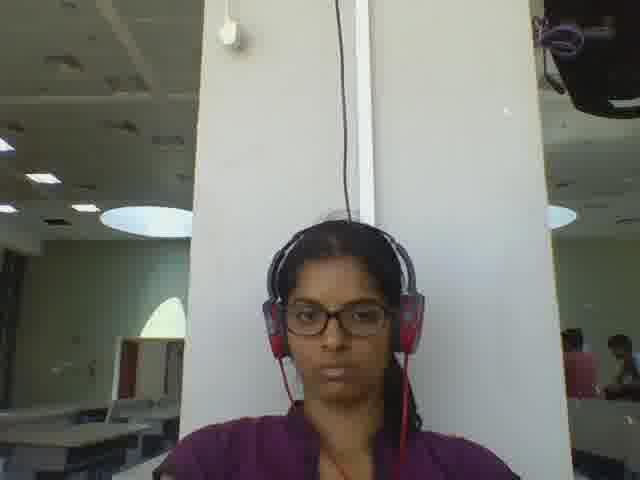bosan: (282, 258, 392, 403)
